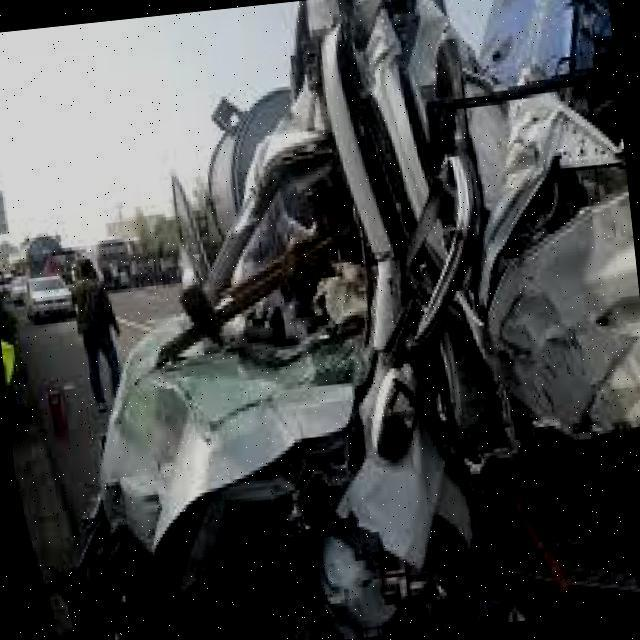accident: (44, 33, 640, 640)
